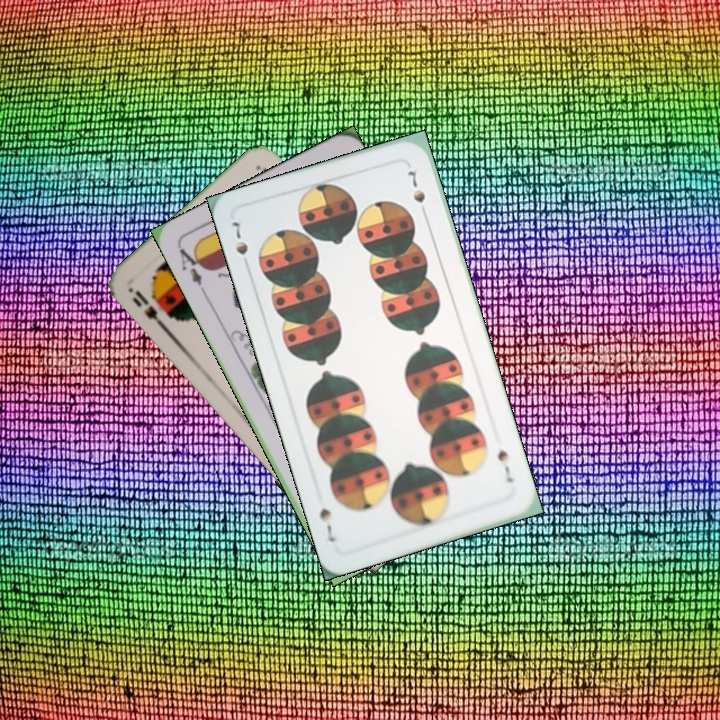EA: (174, 242, 208, 288)
S7: (228, 217, 253, 273), (493, 446, 517, 485)
SO: (126, 286, 171, 335)
